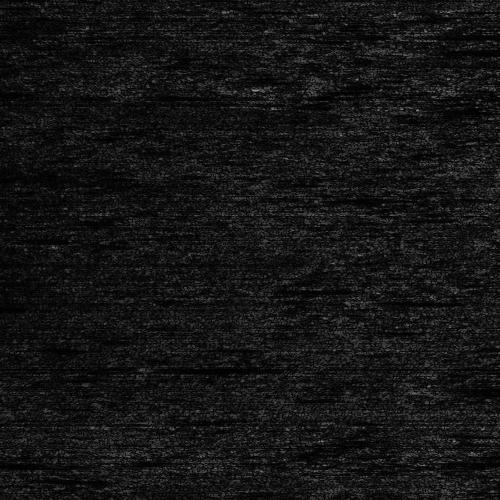object: (409, 382, 500, 393), (371, 44, 444, 57), (397, 27, 460, 38), (121, 364, 174, 369), (0, 458, 10, 465)
shadow: (408, 44, 500, 57), (429, 27, 500, 38), (0, 458, 108, 465), (148, 364, 285, 369), (455, 382, 500, 393)
